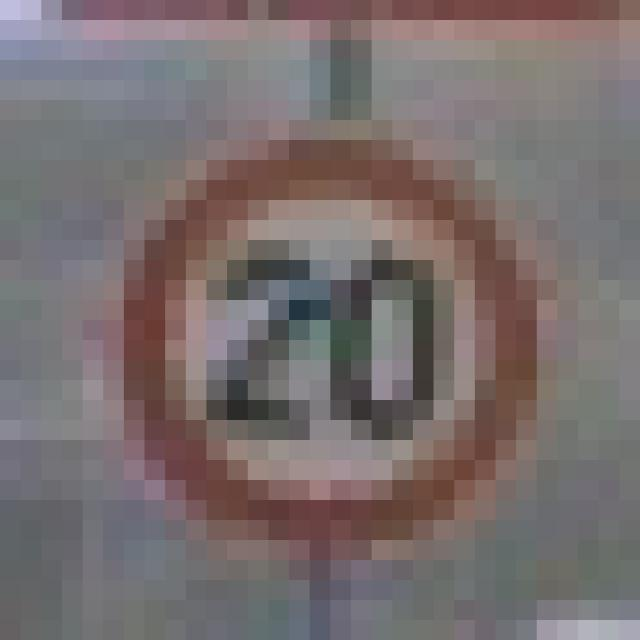Speed Limit -20-: (103, 120, 537, 540)
